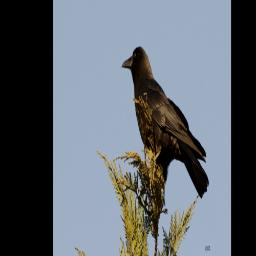Crow: (120, 41, 209, 205)
